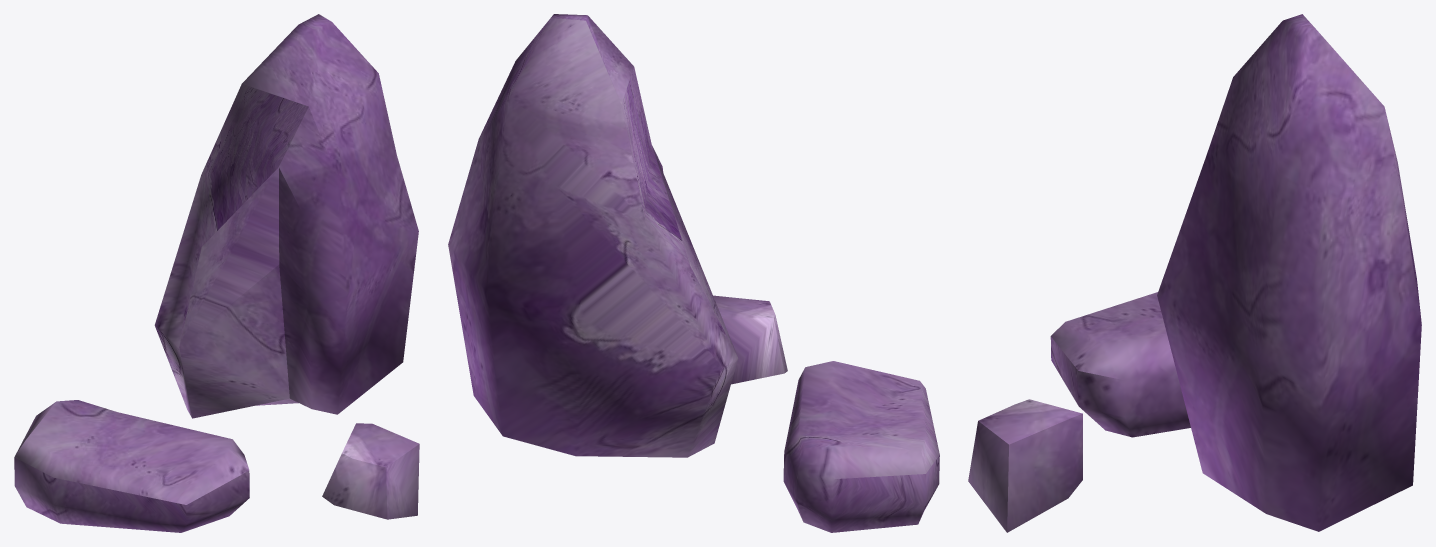
Rendered from entity247290n.gltf.
3 renders of one model, left to right at view 1: azimuth 30°, elevation 25°; view 2: azimuth 150°, elevation 25°; view 3: azimuth 270°, elevation 25°, orthographic. The views are drawn at different scales.
Parts seen in each view (by area): view 1: node_Rock_05; view 2: node_Rock_05; view 3: node_Rock_05.
Part boxes in pixels (x1,y1,x2,y2): node_Rock_05: (14,14,419,532); node_Rock_05: (448,14,939,532); node_Rock_05: (968,14,1421,532).
Size of what is drawn, in the model's own units: 2.71 by 2.61 by 2.03.
